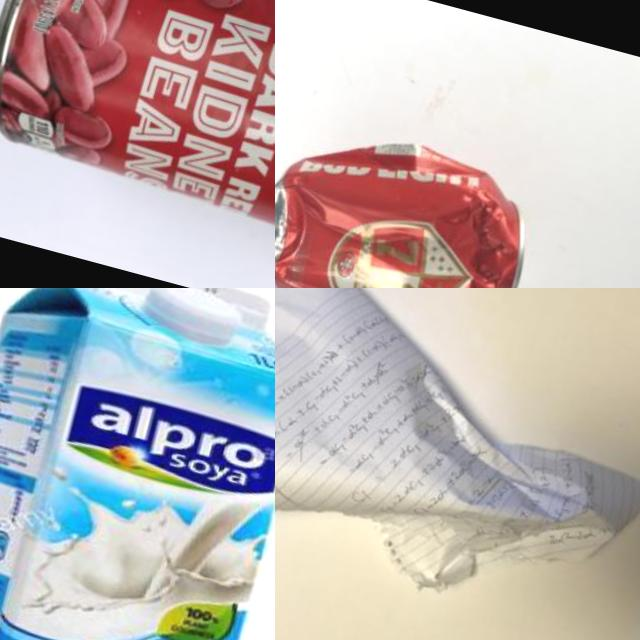caixinha: (0, 288, 275, 640)
lata: (0, 0, 275, 260), (275, 105, 549, 288)
papel: (275, 288, 640, 640)
tampa plástica: (138, 288, 250, 353)
